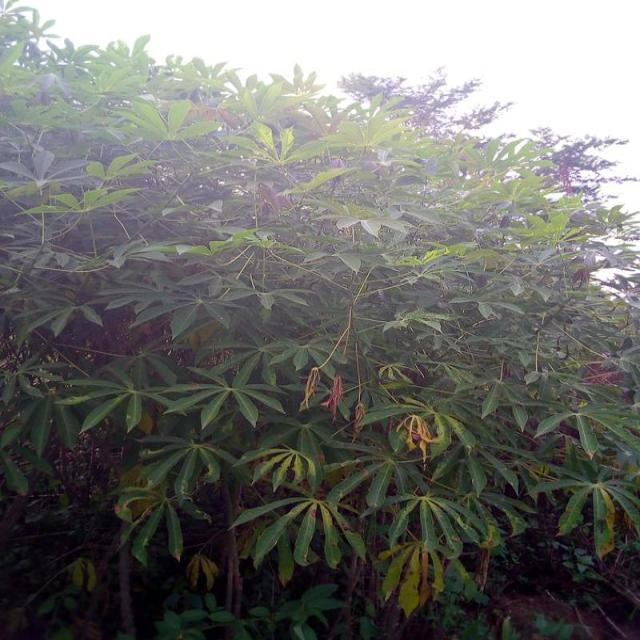cassava leaf: (0, 12, 638, 629)
